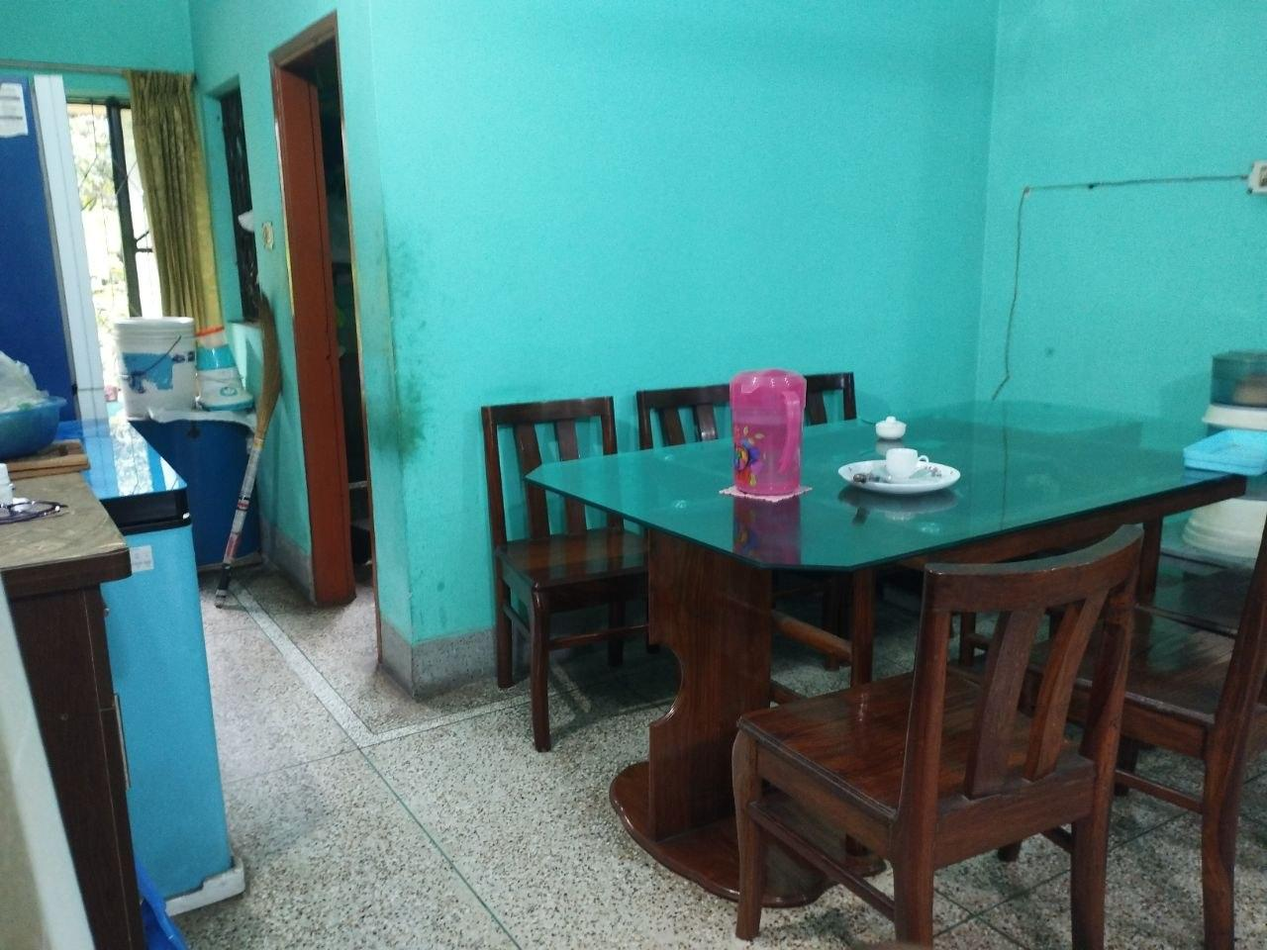Chair: (729, 528, 1160, 939), (472, 387, 648, 768)
Cup: (869, 443, 941, 493)
Jug: (728, 359, 807, 514)
Keychain: (6, 466, 65, 526)
Mop: (219, 274, 281, 588)
Plate: (830, 443, 966, 501)
Table: (446, 379, 1251, 914)
Window: (60, 83, 171, 429)
